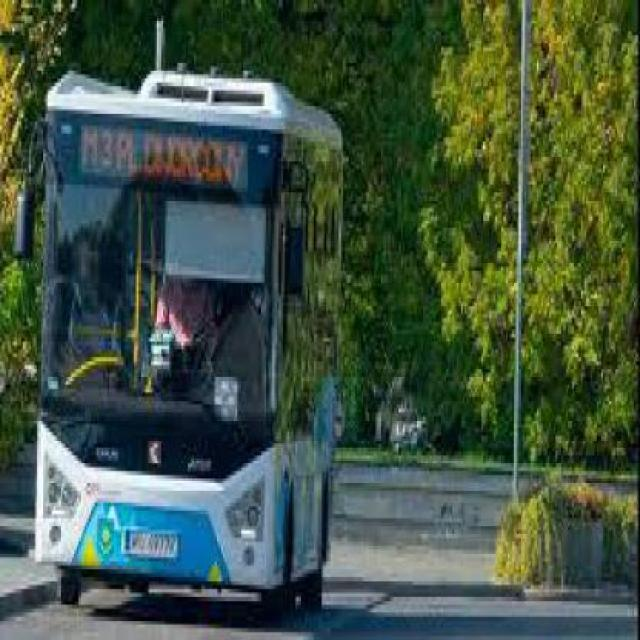bus: (15, 64, 344, 617)
